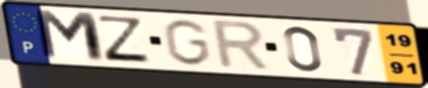0: (281, 25, 324, 73)
7: (329, 25, 376, 77)
G: (161, 18, 213, 68)
M: (32, 8, 109, 65)
R: (211, 18, 274, 73)
Z: (96, 14, 153, 65)
